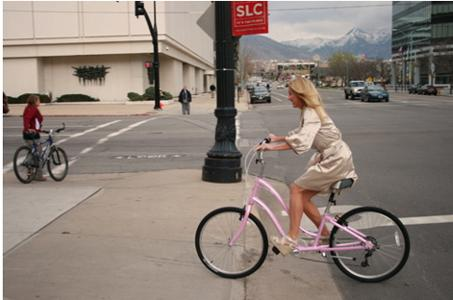person: (257, 75, 361, 259)
